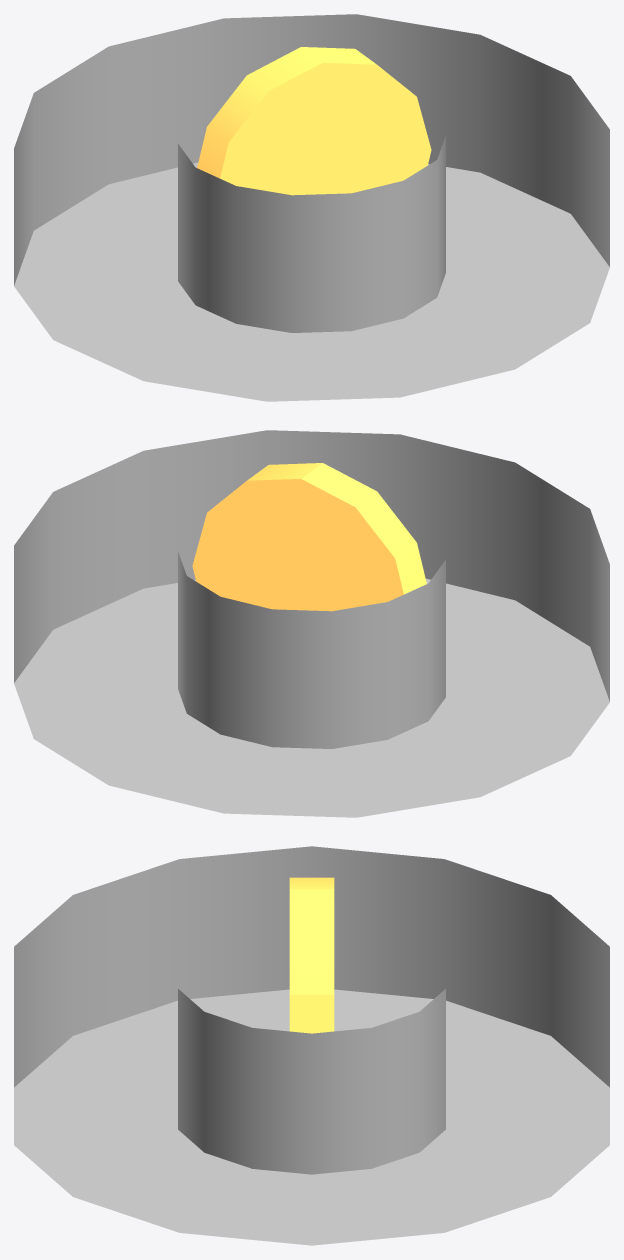
Rendered from SM_VolcanicVillage_ForgePit_v13_LOD2.glb.
The picture shows the model from 3 angles, top to bottom: view 1: azimuth 30°, elevation 25°; view 2: azimuth 150°, elevation 25°; view 3: azimuth 270°, elevation 25°; orthographic projection. The views are drawn at different scales.
Parts seen in each view (by area): view 1: Forge_Rock, Forge_Ember; view 2: Forge_Rock, Forge_Ember; view 3: Forge_Rock, Forge_Ember.
Part boxes in pixels (x1=…): Forge_Rock: x1=14, y1=14, x2=609, y2=401; Forge_Ember: x1=197, y1=47, x2=431, y2=195; Forge_Rock: x1=14, y1=430, x2=609, y2=817; Forge_Ember: x1=192, y1=463, x2=426, y2=611; Forge_Rock: x1=14, y1=846, x2=609, y2=1245; Forge_Ember: x1=289, y1=877, x2=334, y2=1033.
Size of the model in its own units: 1.1 by 0.462 by 1.07.
